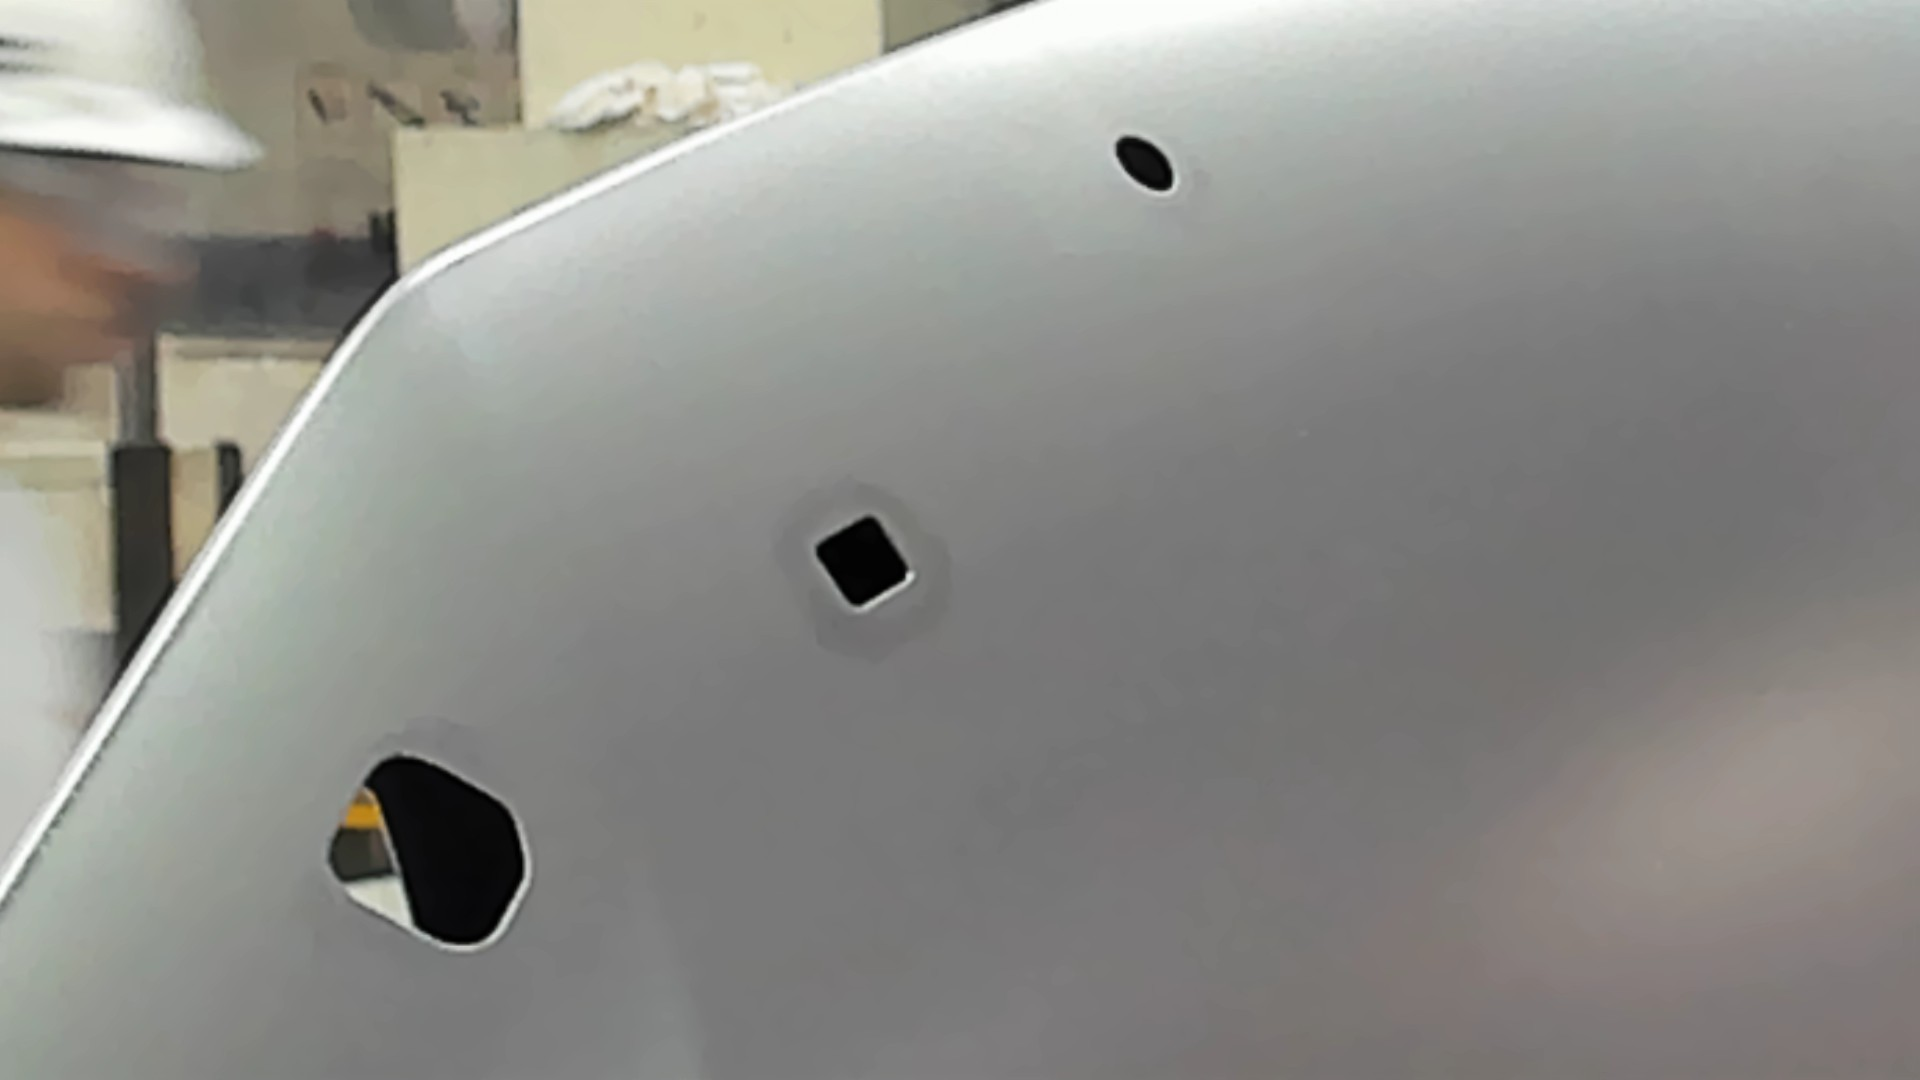chico: (1112, 129, 1178, 195)
grande: (319, 745, 534, 956)
mediano: (804, 508, 919, 618)
